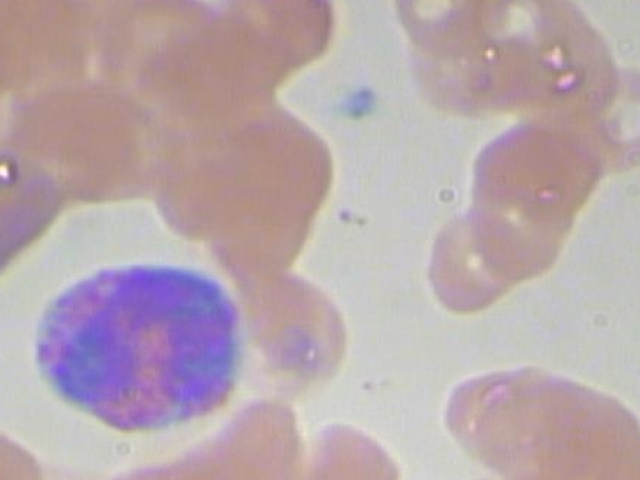Platelets: (336, 82, 386, 131)
RBC: (232, 259, 361, 391), (405, 204, 535, 321), (551, 61, 640, 174), (275, 412, 405, 480), (0, 411, 57, 480)
WBC: (19, 256, 256, 439)
